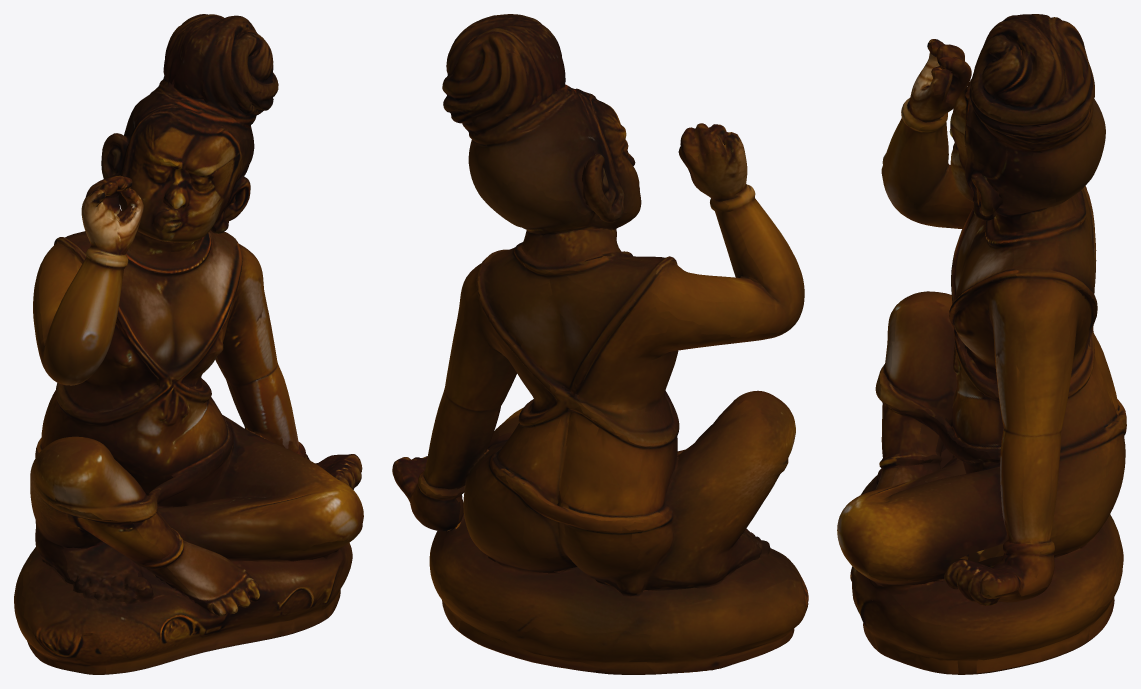
The picture shows the model from 3 angles, left to right: view 1: azimuth 30°, elevation 25°; view 2: azimuth 150°, elevation 25°; view 3: azimuth 270°, elevation 25°; orthographic projection. The views are drawn at different scales.
Visible parts, largest first — view 1: textured_mesh; view 2: textured_mesh; view 3: textured_mesh.
Boxes of the visible parts, x1,y1,x2,y2 form: textured_mesh: (14,14,363,674); textured_mesh: (392,14,808,674); textured_mesh: (837,14,1126,674).
Bounding box in the file's own units: 1.33 × 1.99 × 0.8532.
1 material, 1 textured.
